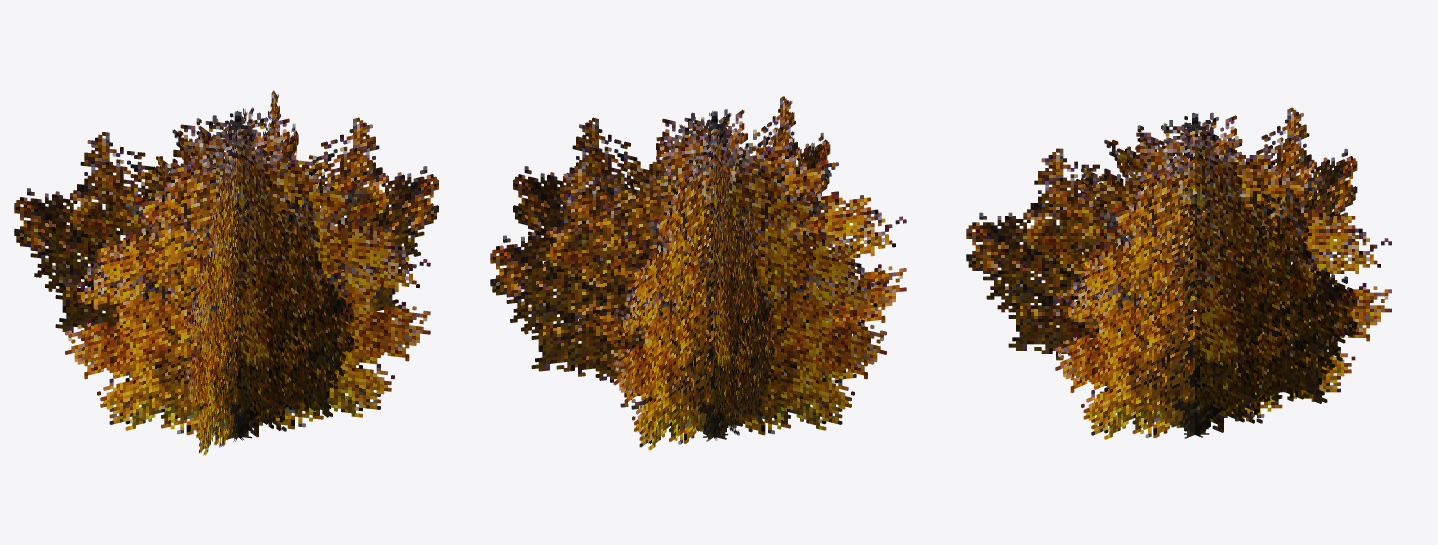
Rendered from bush05.glb.
The picture shows the model from 3 angles, left to right: view 1: azimuth 30°, elevation 25°; view 2: azimuth 150°, elevation 25°; view 3: azimuth 270°, elevation 25°; orthographic projection.
Visible parts, largest first — view 1: bush05; view 2: bush05; view 3: bush05.
Boxes of the visible parts, x1,y1,x2,y2 form: bush05: (14,90,438,455); bush05: (490,96,906,450); bush05: (966,107,1391,439).
Bounding box in the file's own units: 1.54 × 1.2 × 1.54.
Materials: 1 (1 with a texture image).
